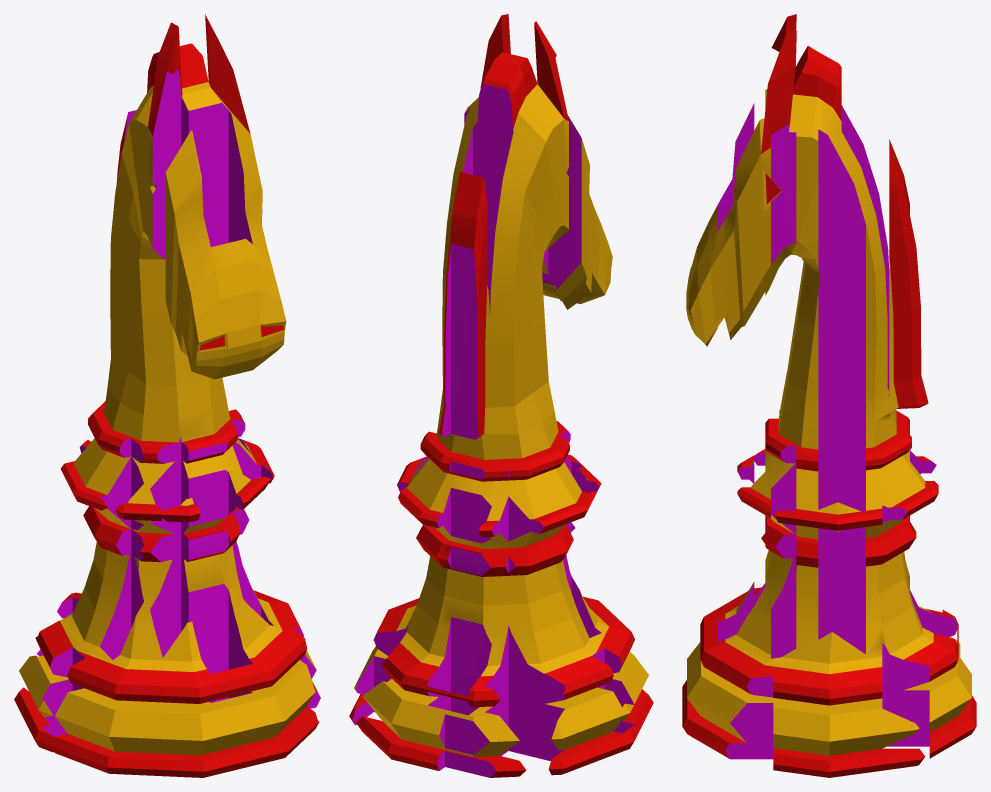
File: Knight_Glitch.fbx
3 renders of one model, left to right at view 1: azimuth 30°, elevation 25°; view 2: azimuth 150°, elevation 25°; view 3: azimuth 270°, elevation 25°, orthographic. The views are drawn at different scales.
Visible parts, largest first — view 1: KnightLow_Glitch; view 2: KnightLow_Glitch; view 3: KnightLow_Glitch.
Boxes of the visible parts, x1,y1,x2,y2 form: KnightLow_Glitch: (14, 14, 320, 777); KnightLow_Glitch: (349, 14, 653, 777); KnightLow_Glitch: (682, 14, 976, 777).
Size of the model in its own units: 0.8774 by 2.17 by 0.8345.
